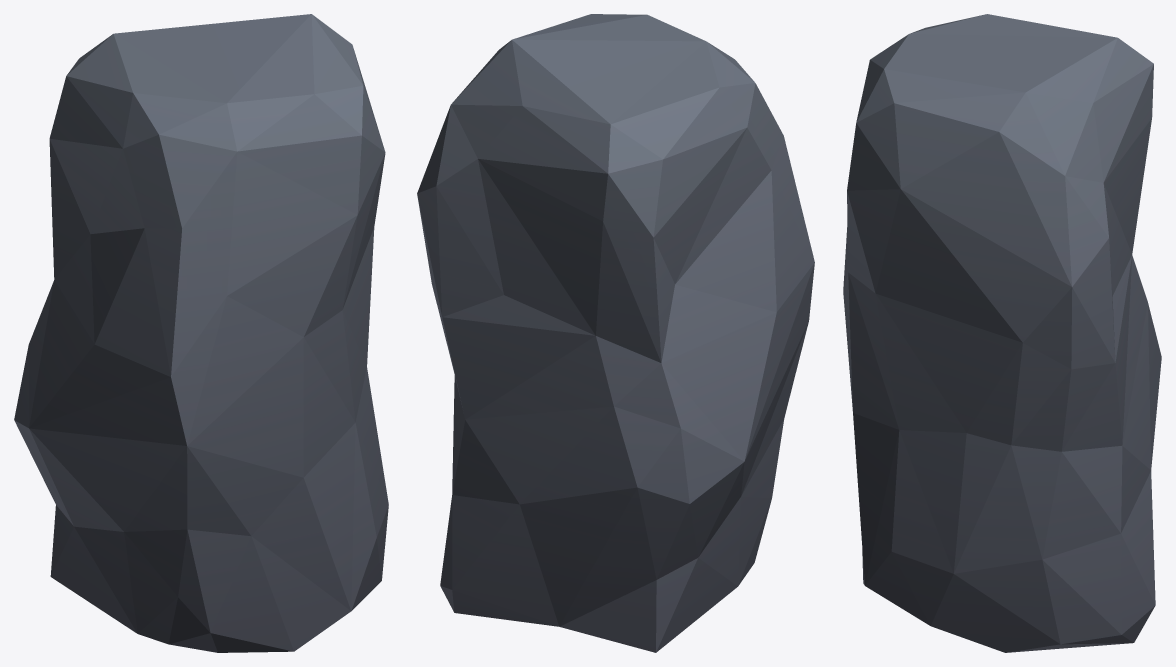
The model's file is BigRock_02.fbx.
The picture shows the model from 3 angles, left to right: view 1: azimuth 30°, elevation 25°; view 2: azimuth 150°, elevation 25°; view 3: azimuth 270°, elevation 25°; orthographic projection. The views are drawn at different scales.
Visible parts, largest first — view 1: BigRock_02; view 2: BigRock_02; view 3: BigRock_02.
Boxes of the visible parts, <box> form: BigRock_02: <box>14,14,388,652</box>; BigRock_02: <box>417,14,814,652</box>; BigRock_02: <box>843,14,1161,652</box>.
Size of the model in its own units: 178 by 289 by 148.
